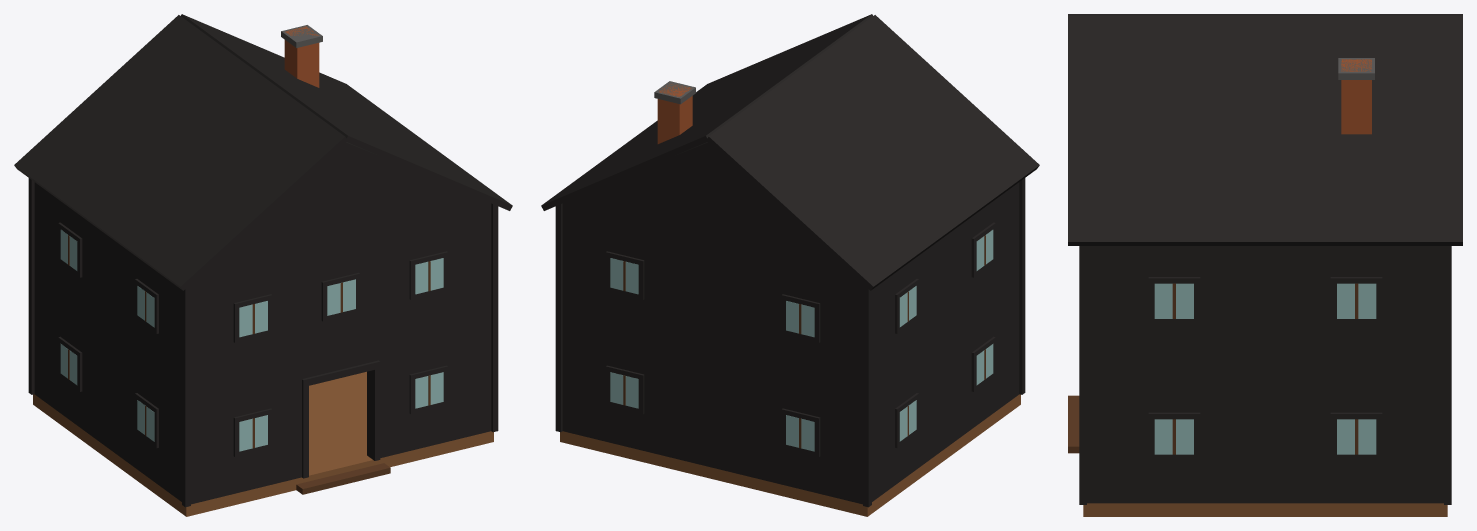
The model's file is HouseTwoStory.fbx.
The picture shows the model from 3 angles, left to right: view 1: azimuth 30°, elevation 25°; view 2: azimuth 150°, elevation 25°; view 3: azimuth 270°, elevation 25°; orthographic projection. The views are drawn at different scales.
Visible parts, largest first — view 1: Wall, Roof, Trim, Floor, Detail; view 2: Wall, Roof, Trim, Detail, Floor; view 3: Roof, Wall, Trim, Detail, Floor.
Boxes of the visible parts, <box> form: Wall: <box>34,142,491,504</box>; Roof: <box>14,14,512,290</box>; Trim: <box>28,178,498,507</box>; Floor: <box>33,371,493,516</box>; Detail: <box>60,25,443,451</box>; Wall: <box>562,142,1019,504</box>; Roof: <box>541,14,1039,290</box>; Trim: <box>555,178,1025,507</box>; Detail: <box>610,81,993,451</box>; Floor: <box>560,394,1020,516</box>; Roof: <box>1068,14,1462,245</box>; Wall: <box>1087,246,1443,503</box>; Trim: <box>1079,246,1451,504</box>; Detail: <box>1154,58,1376,454</box>; Floor: <box>1068,395,1447,516</box>.
Bounding box in the file's own units: 30 × 30 × 26.
